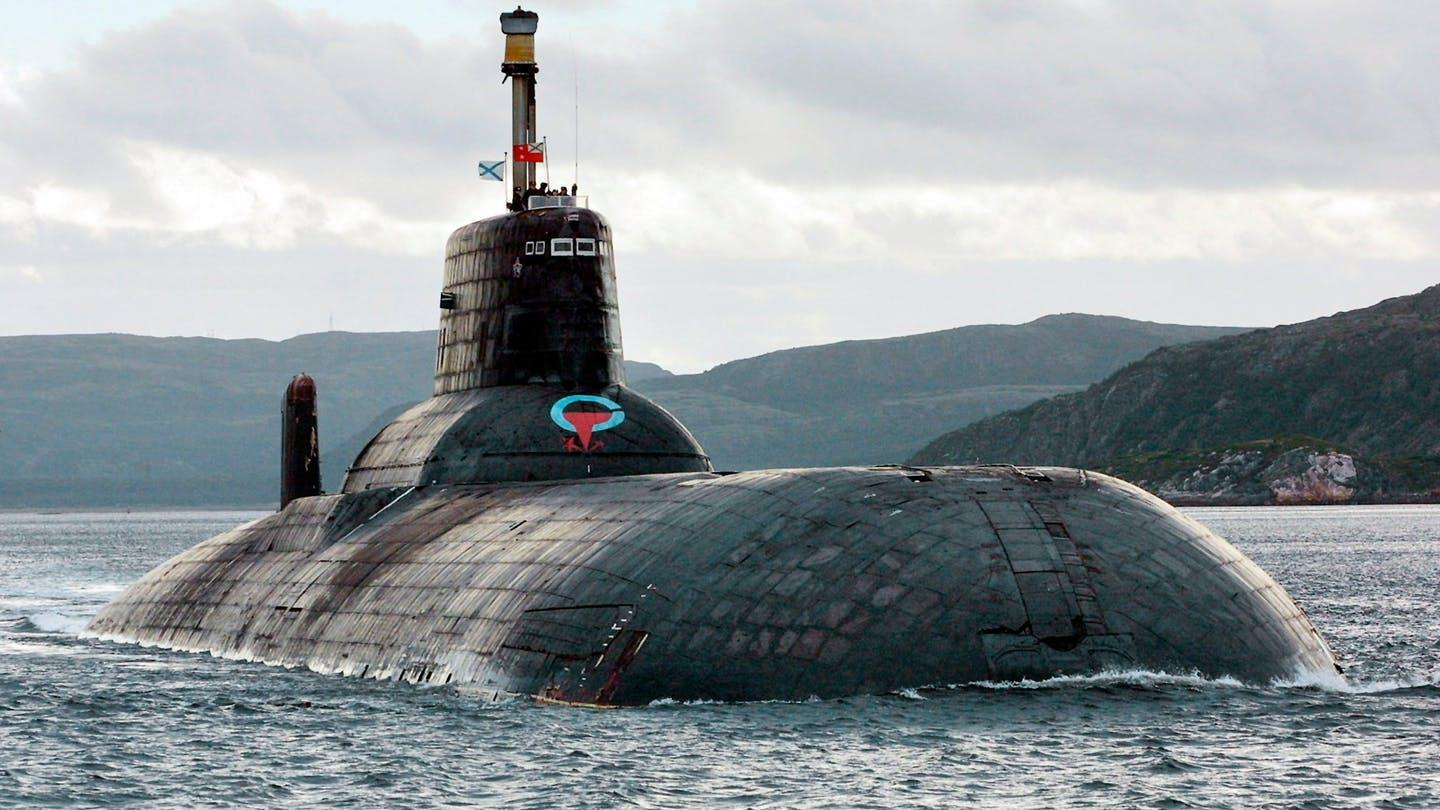Submarine: (0, 20, 1440, 810)
